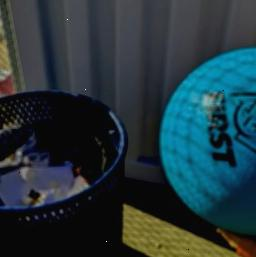algae: (163, 46, 256, 253)
